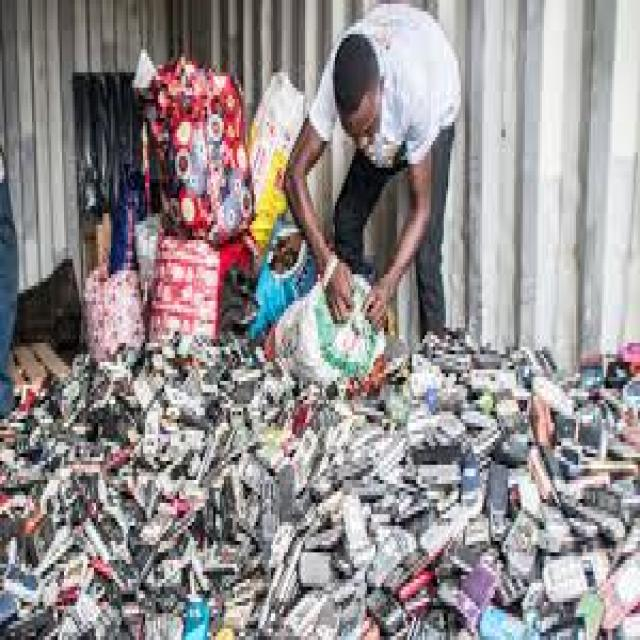hazard: (0, 342, 627, 616)
